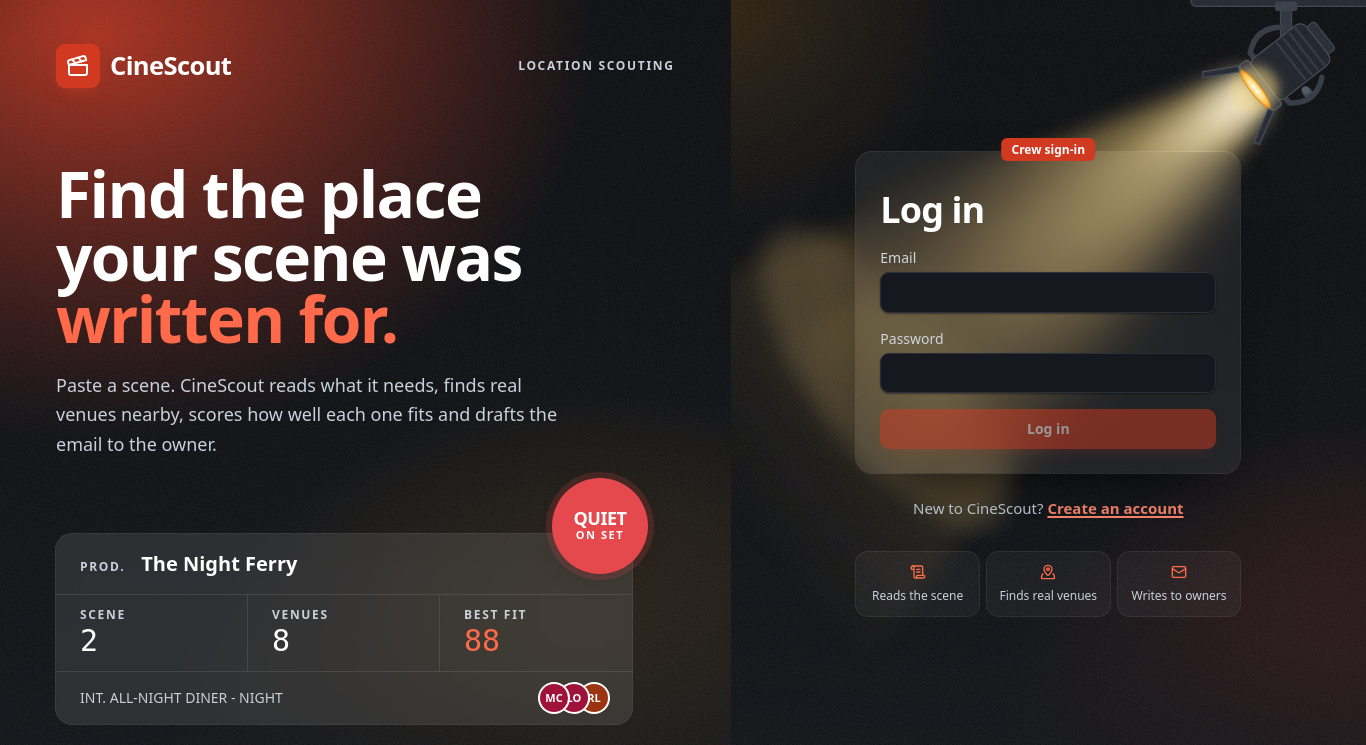
the schedule of a project › opens a dated scene with its dates filled in, to move it
This screenshot has width=1366, height=745.
Type "ada@example.com" into the field labelled "Email" at [1048, 293], box [880,272,1216,313]
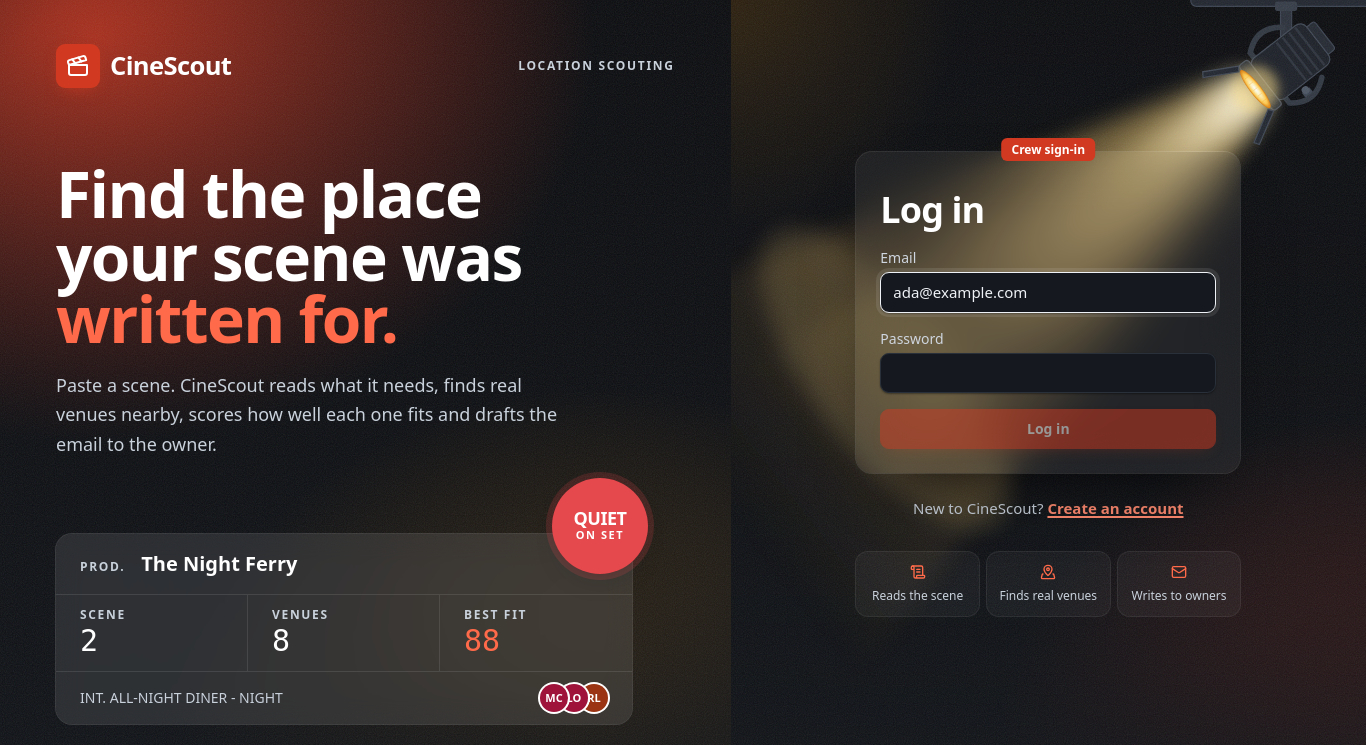
Type "a-long-password" into the password field labelled "Password" at [1048, 373], box [880,353,1216,393]
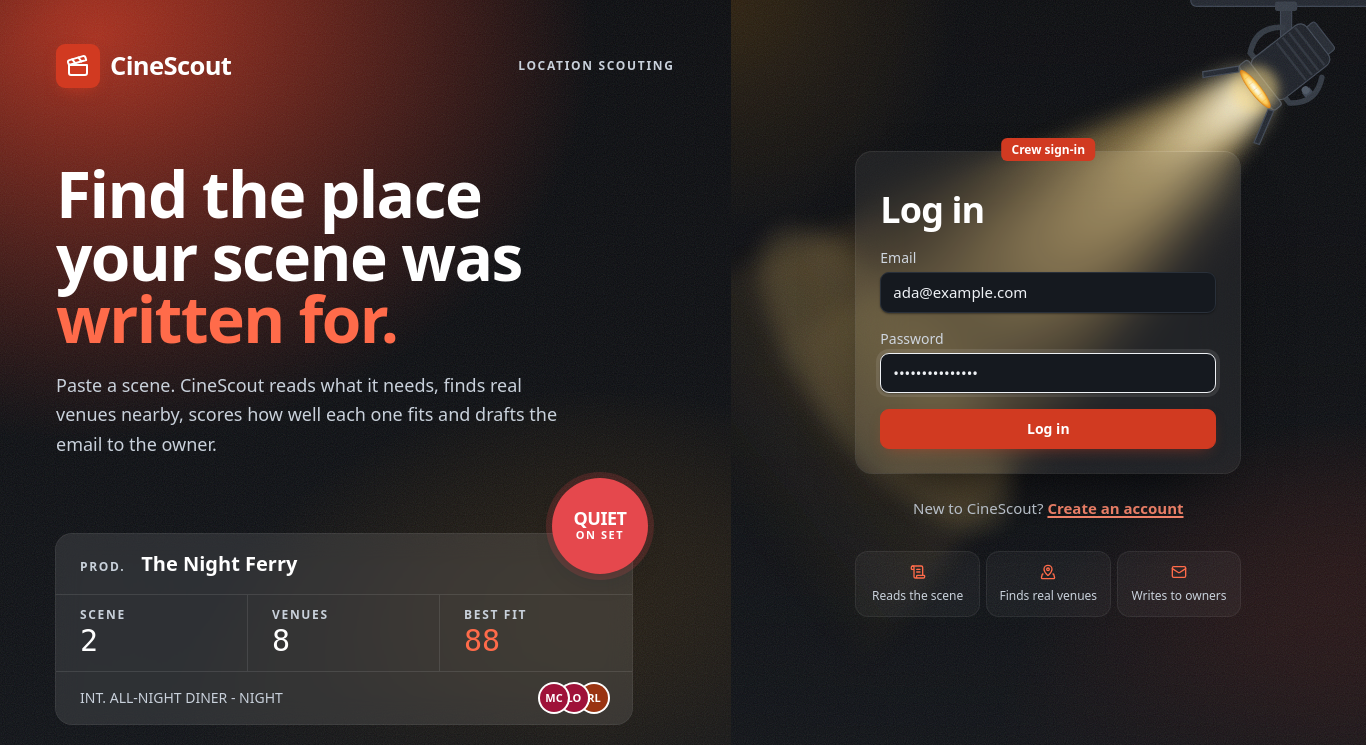
Click the button "Log in" at [1048, 429], box [880,409,1216,449]
(page scrolled)
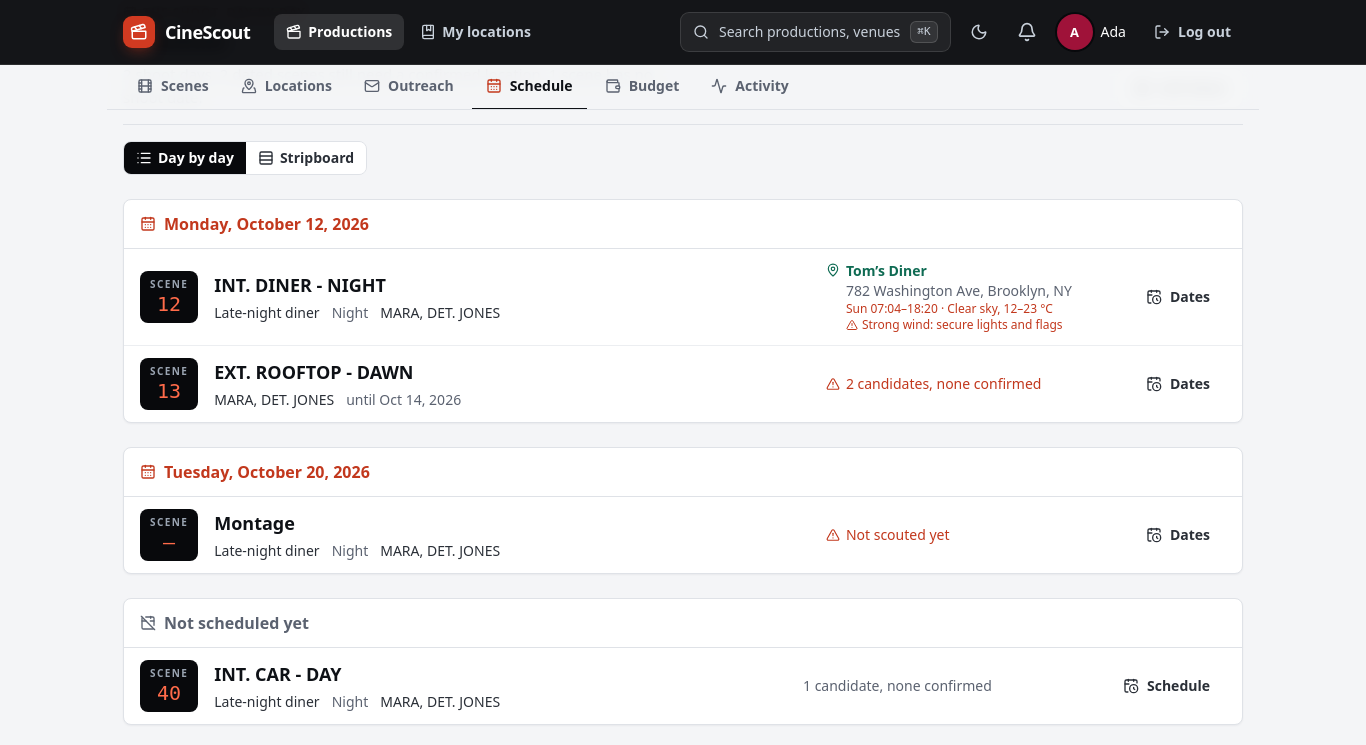
Click the button named "Change the dates of EXT. ROOFTOP - DAWN" at [1178, 384], box [1130,364,1226,404]
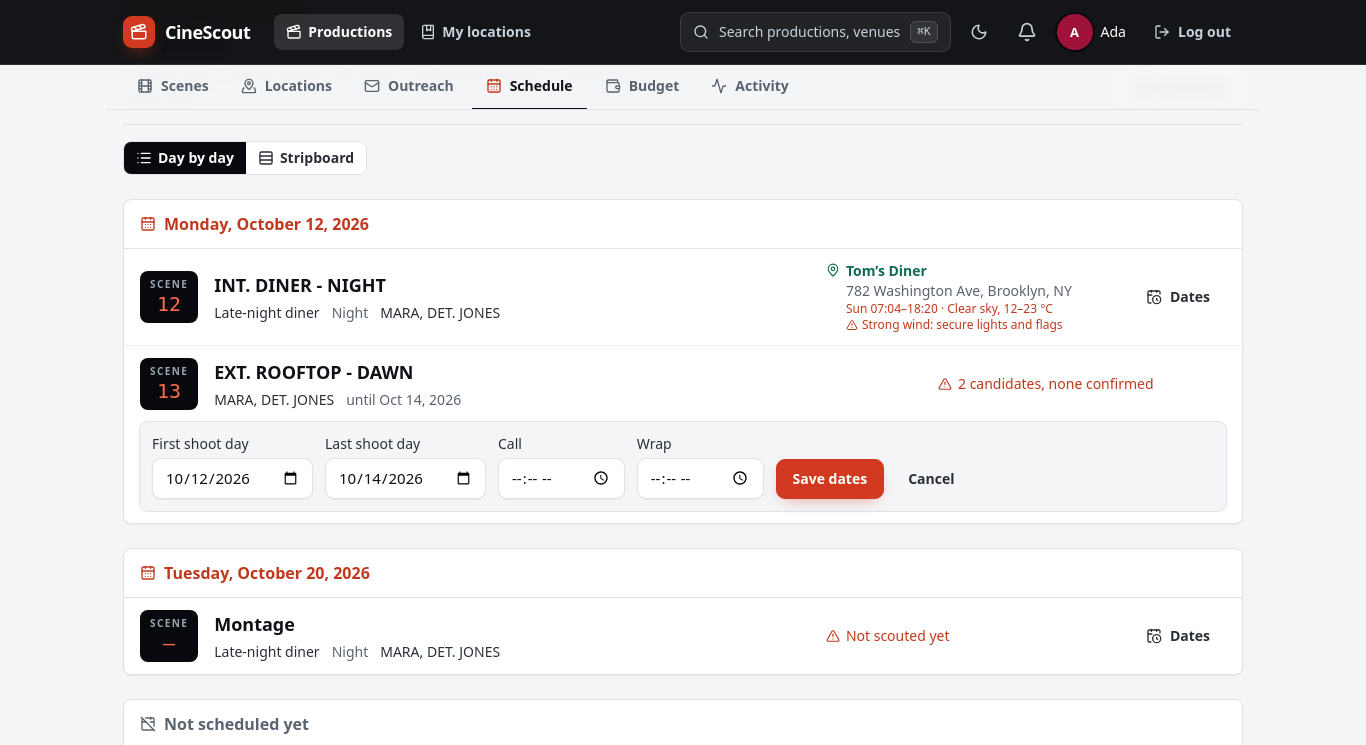
Check: the date field labelled "First shoot day" holds "2026-10-12", box [152,458,313,498]
Check: the date field labelled "Last shoot day" holds "2026-10-14", box [325,458,486,498]
Click the button "Cancel" at [931, 478], box [892,458,970,498]
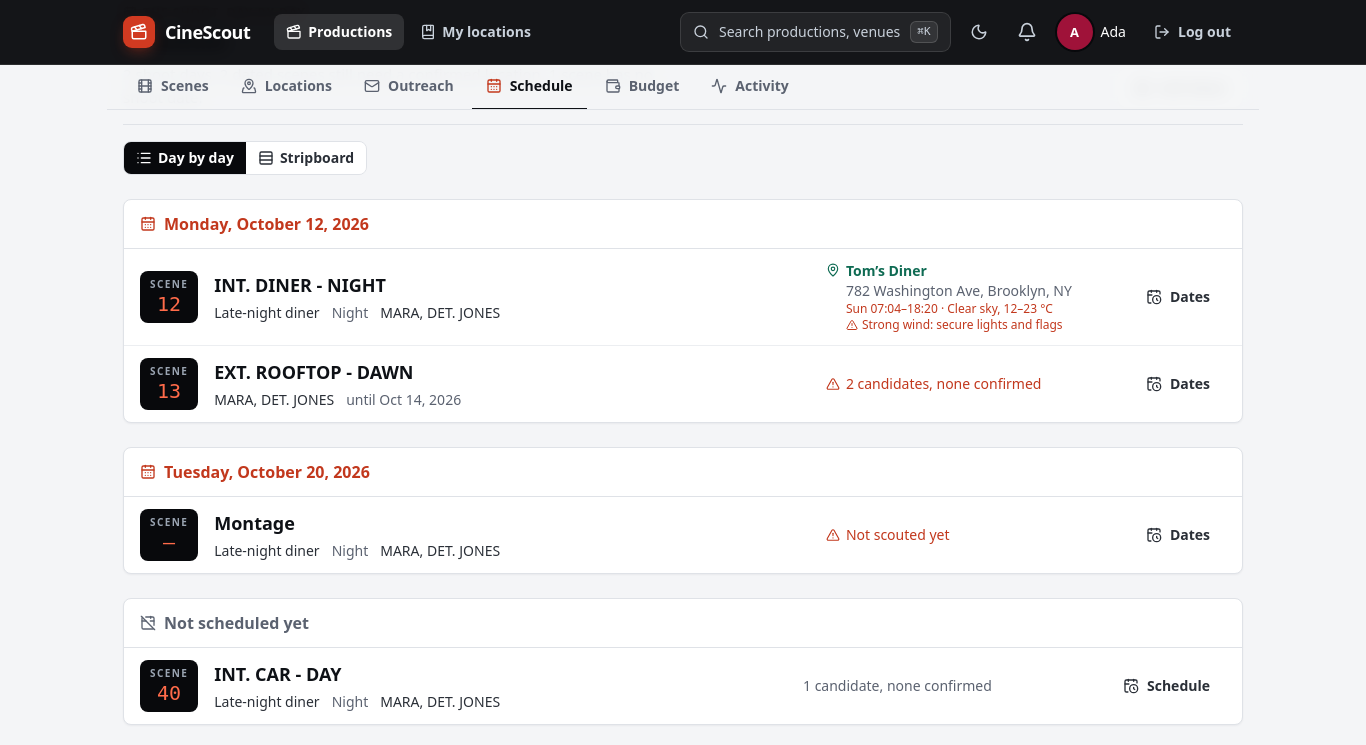
Check: the form is gone
